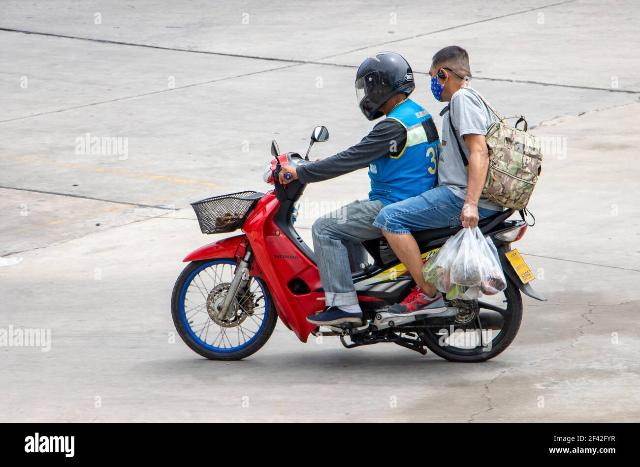helm: (358, 52, 417, 122)
motor: (171, 123, 546, 363)
non-helm: (432, 47, 473, 103)
